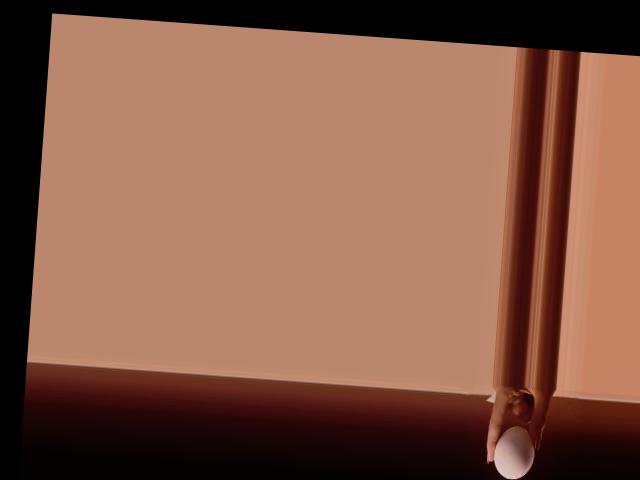egg: (493, 423, 537, 480)
